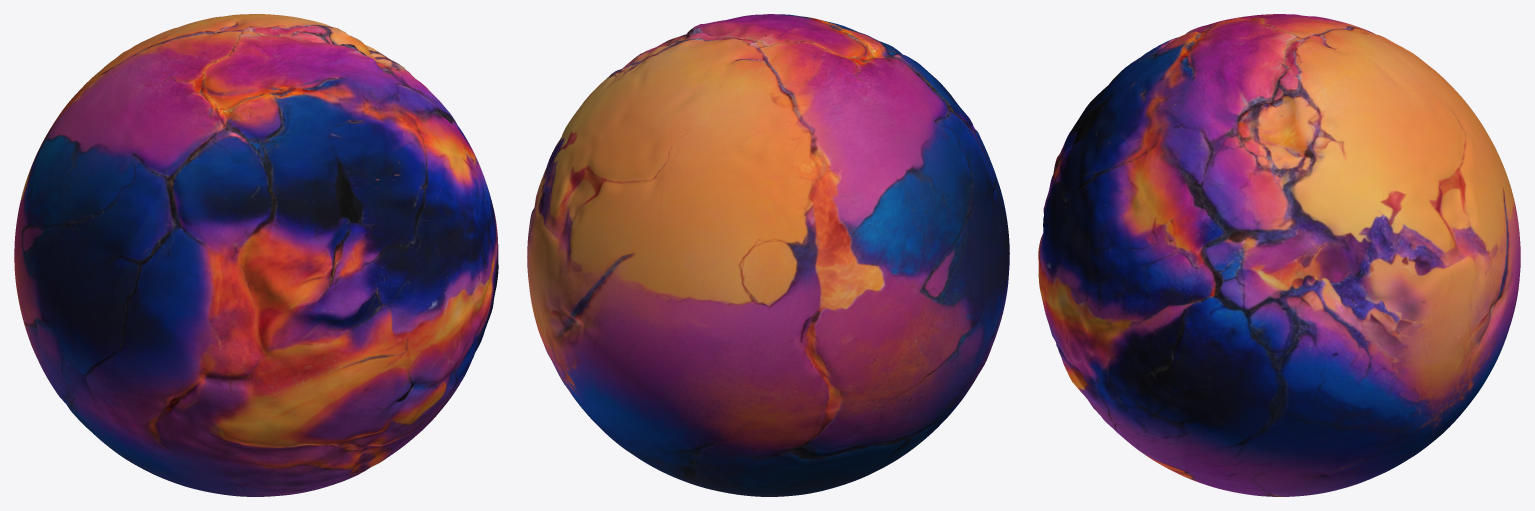
Rendered from Fractured_Cosmos_0912191635.glb.
3 views of the same model, side by side, from view 1: azimuth 30°, elevation 25°; view 2: azimuth 150°, elevation 25°; view 3: azimuth 270°, elevation 25° (orthographic).
Size of the model in its own units: 2 by 1.99 by 2.
Materials: 1 (1 with a texture image).
